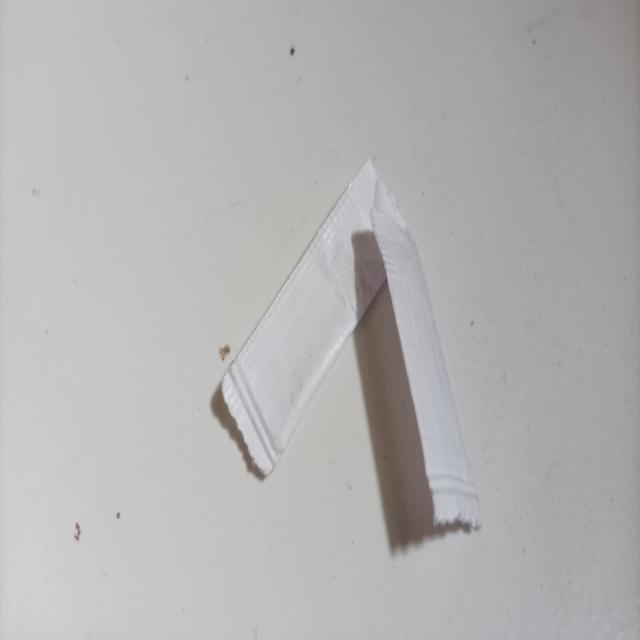Organik: (224, 160, 481, 528)
